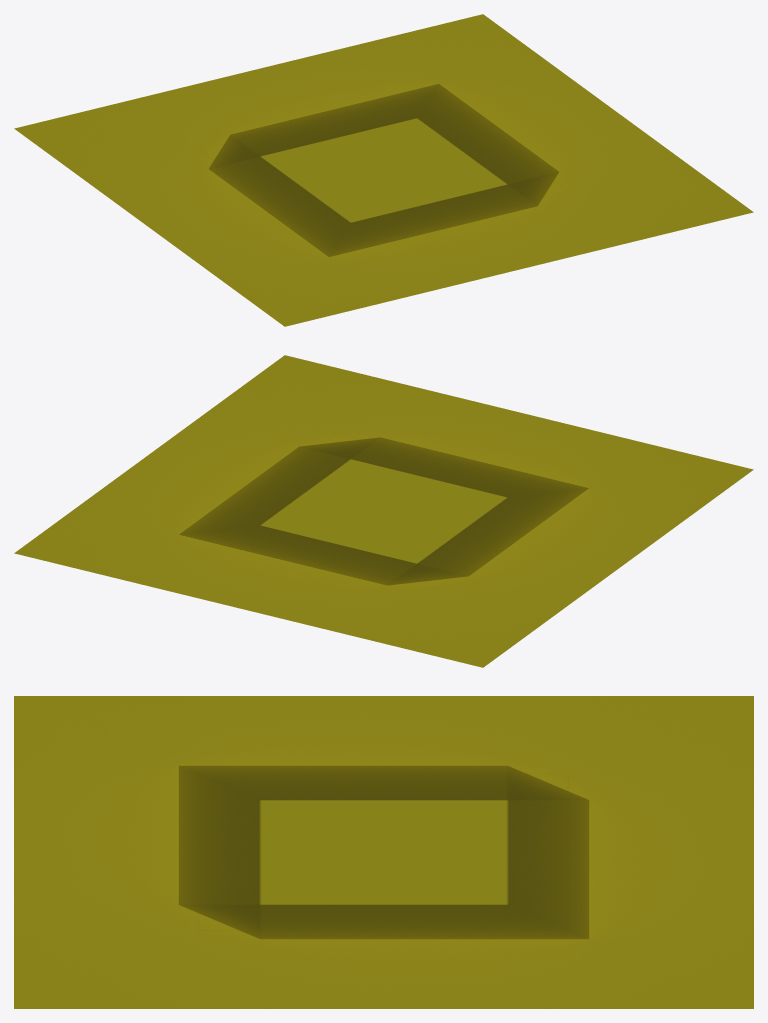
Rendered from procedural_1_plane.glb.
3 views of the same model, one above another, from view 1: azimuth 30°, elevation 25°; view 2: azimuth 150°, elevation 25°; view 3: azimuth 270°, elevation 25° (orthographic). The views are drawn at different scales.
Parts seen in each view (by area): view 1: pylon_baked; view 2: pylon_baked; view 3: pylon_baked.
Boxes of the visible parts, <box> form: pylon_baked: <box>14,14,753,326</box>; pylon_baked: <box>14,355,753,667</box>; pylon_baked: <box>14,696,753,1008</box>.
Bounding box in the file's own units: 2 × 0 × 2.
1 material, 1 textured.
